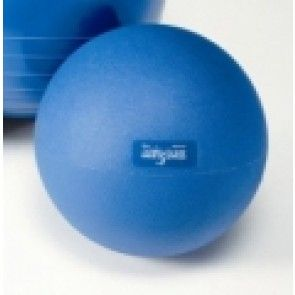blue ball: (32, 22, 270, 260)
